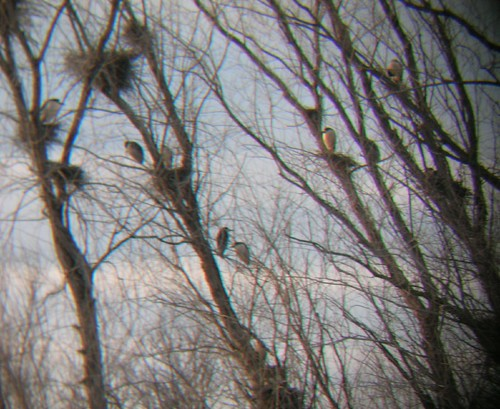animal: (36, 93, 71, 127), (209, 215, 235, 258), (119, 136, 149, 169), (316, 122, 339, 159), (383, 57, 405, 87), (234, 237, 254, 269)
vegetation: (4, 1, 500, 407)
